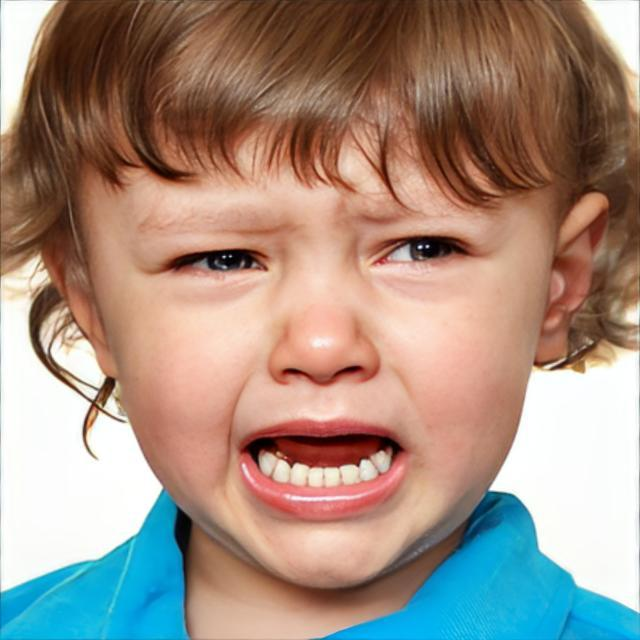sad: (69, 48, 554, 596)
